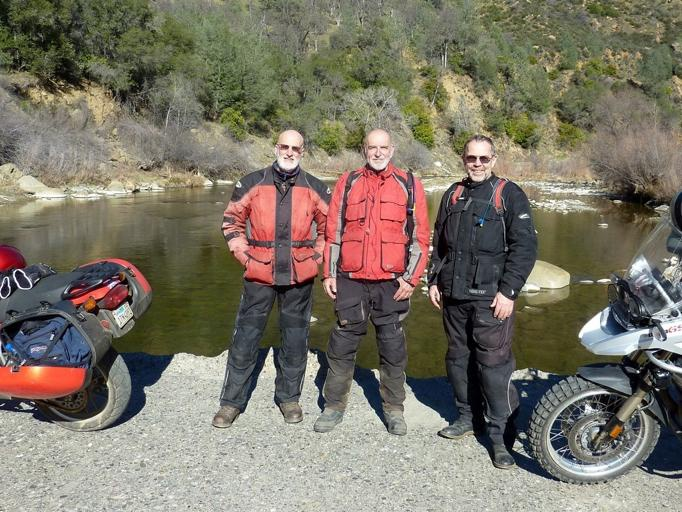non-vehicle: (527, 191, 681, 485), (0, 243, 155, 431)
